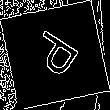P_SE: (23, 26, 87, 84)
